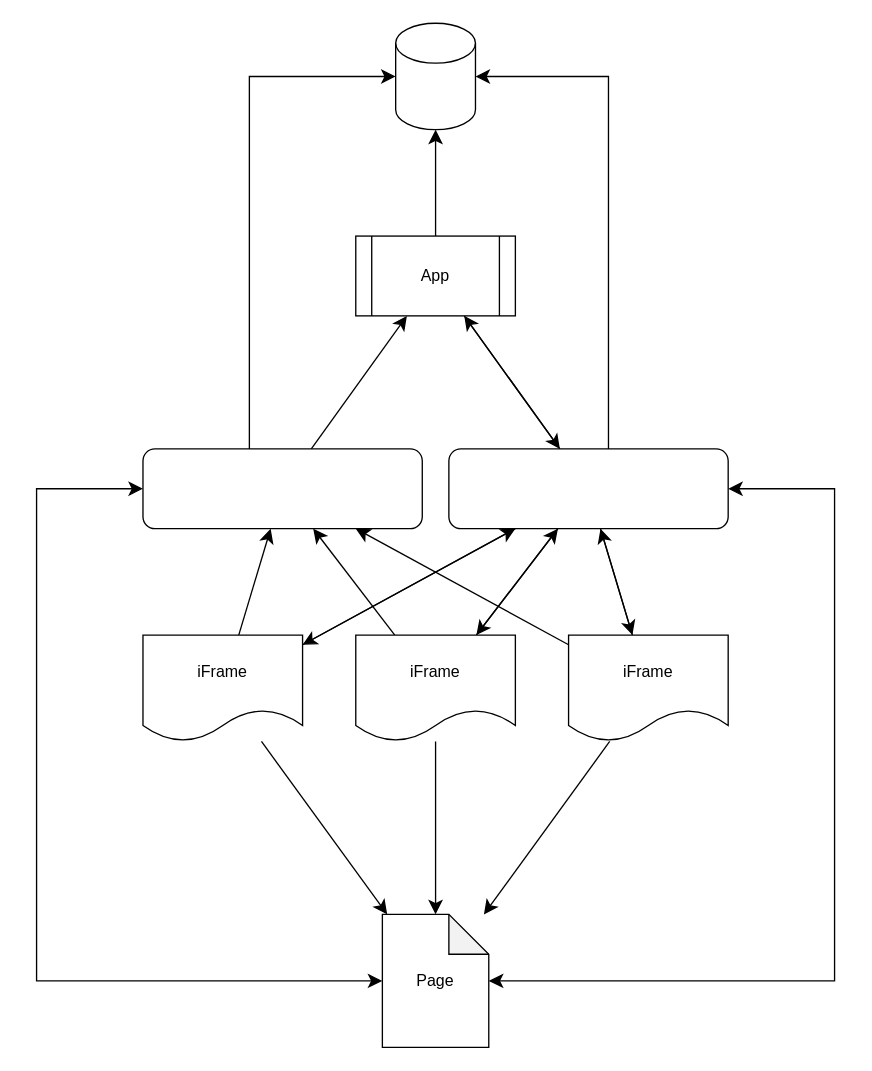
Image size: 872x1071. Some labels were removed from this diagram. Here are the shapes that lost their labels. From the top down, the centre of each, then its label:
At [282,488]: "API".
At [588,488]: "WebSoc".
